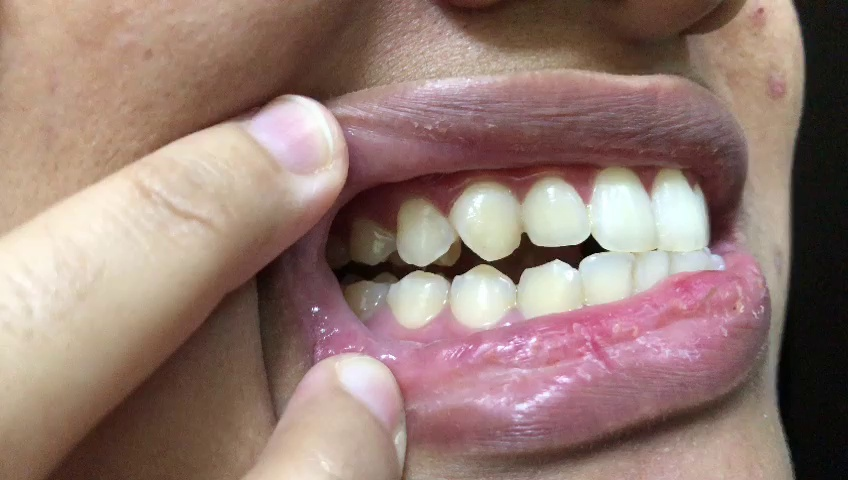1st Molar: (341, 275, 387, 323)
1st Premolar: (394, 194, 458, 264), (451, 265, 516, 327)
2nd Premolar: (386, 271, 451, 329), (346, 211, 395, 269)
Canine: (448, 178, 524, 260), (518, 257, 581, 323)
Central Incisor: (590, 166, 659, 252), (649, 165, 706, 252)
Lateral Incisor: (521, 174, 590, 245), (577, 249, 635, 310)
